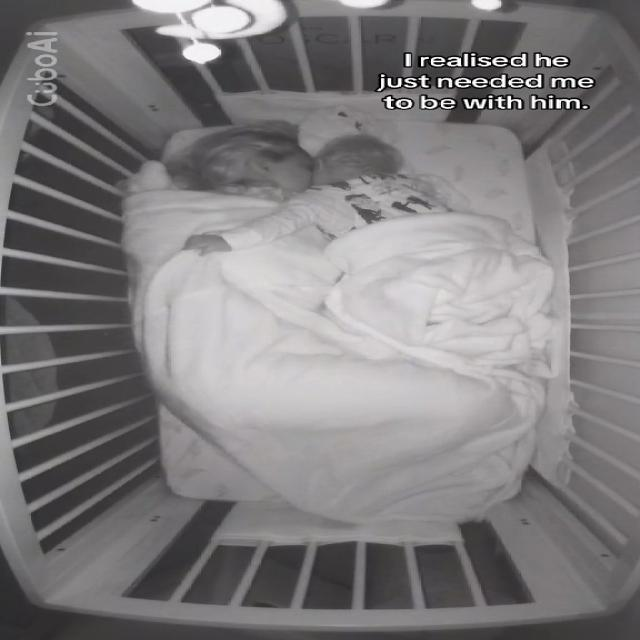baby: (186, 135, 584, 343)
